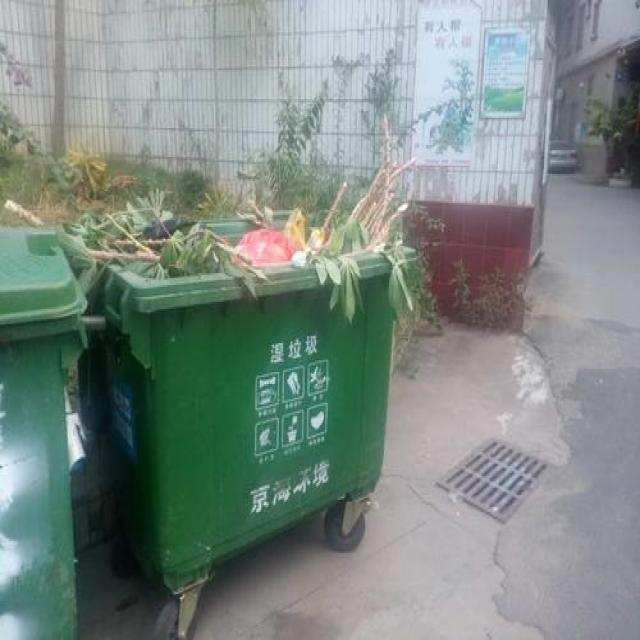garbage_bin: (0, 224, 86, 638)
overflow: (79, 116, 416, 589)
